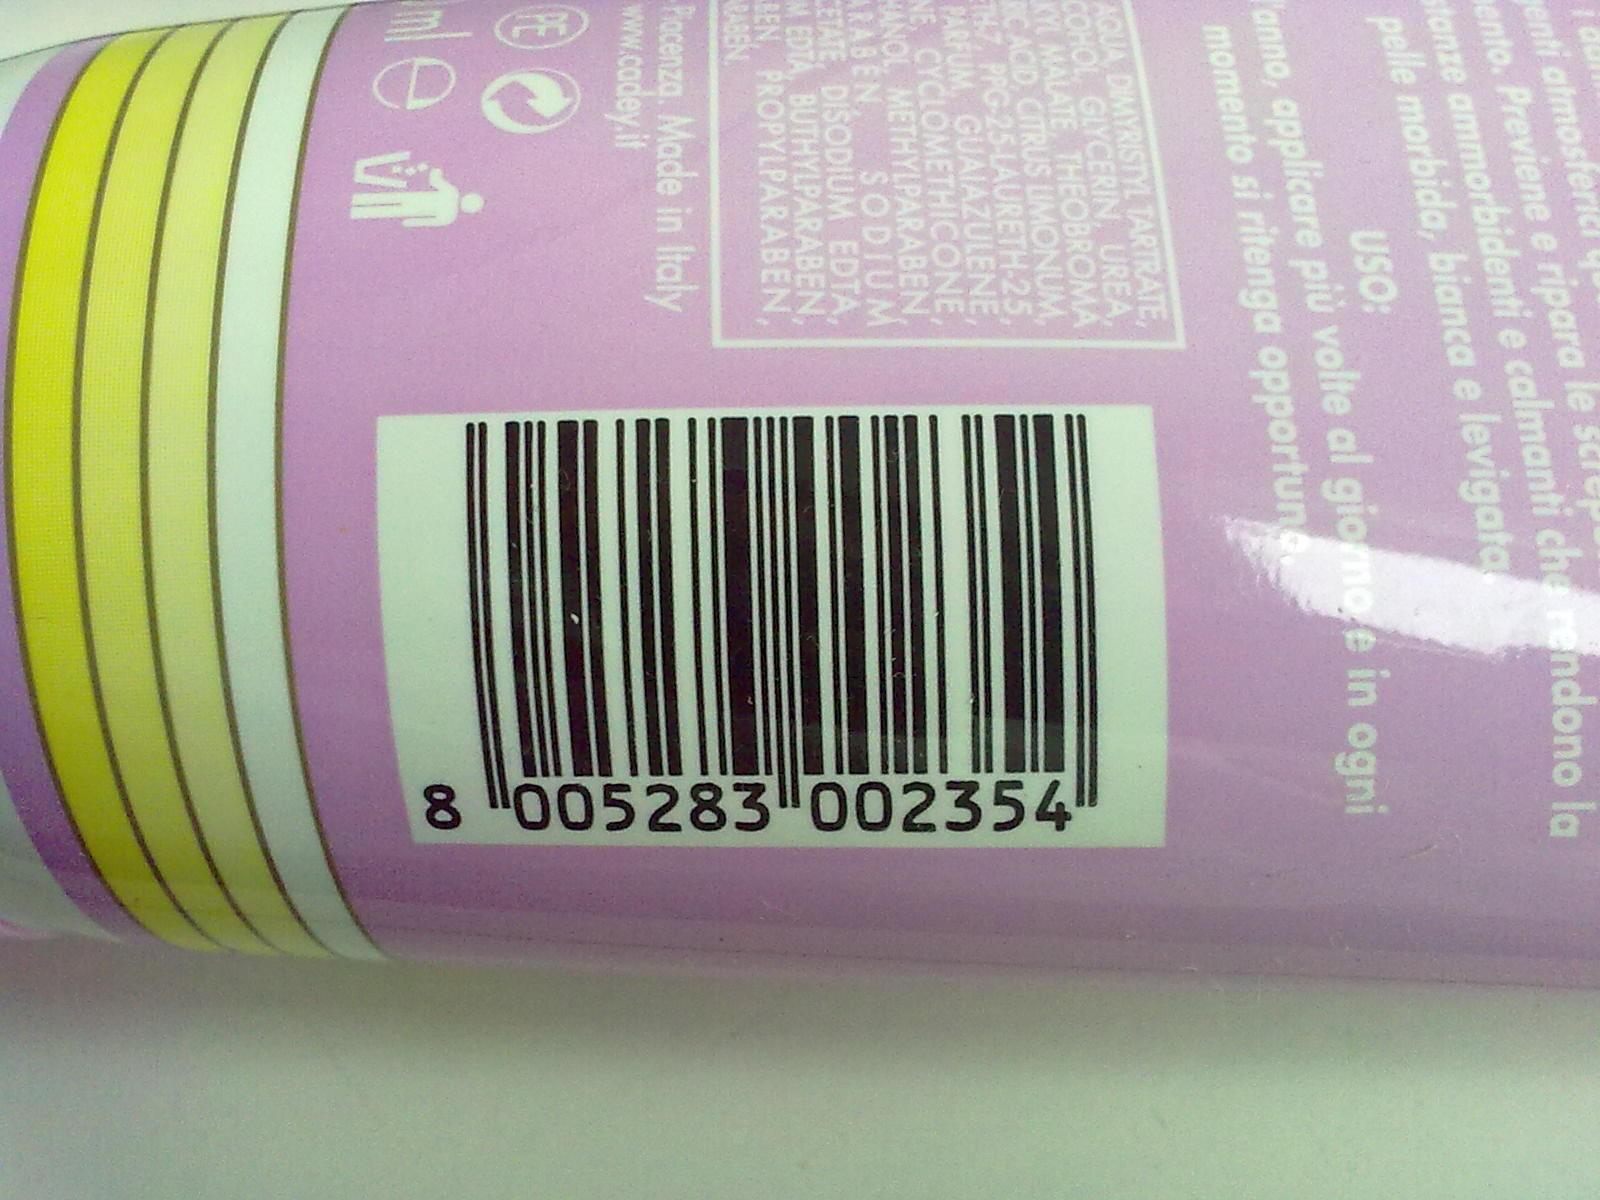Barcode: (365, 395, 1175, 855)
